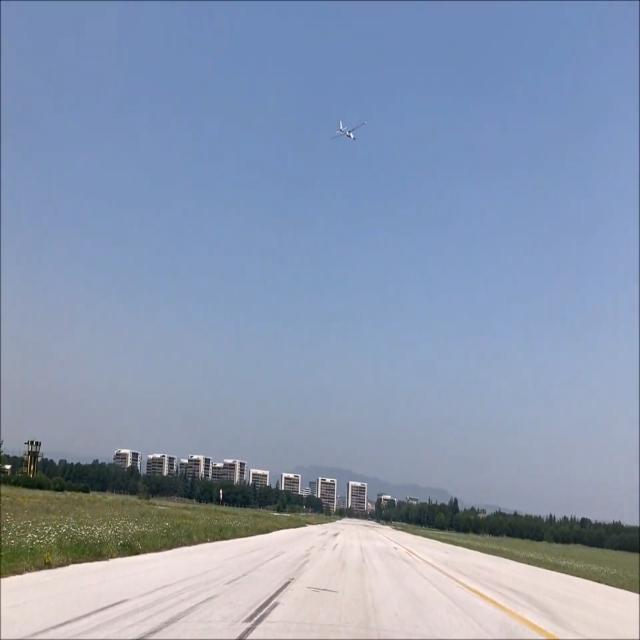UAV: (301, 111, 382, 158)
